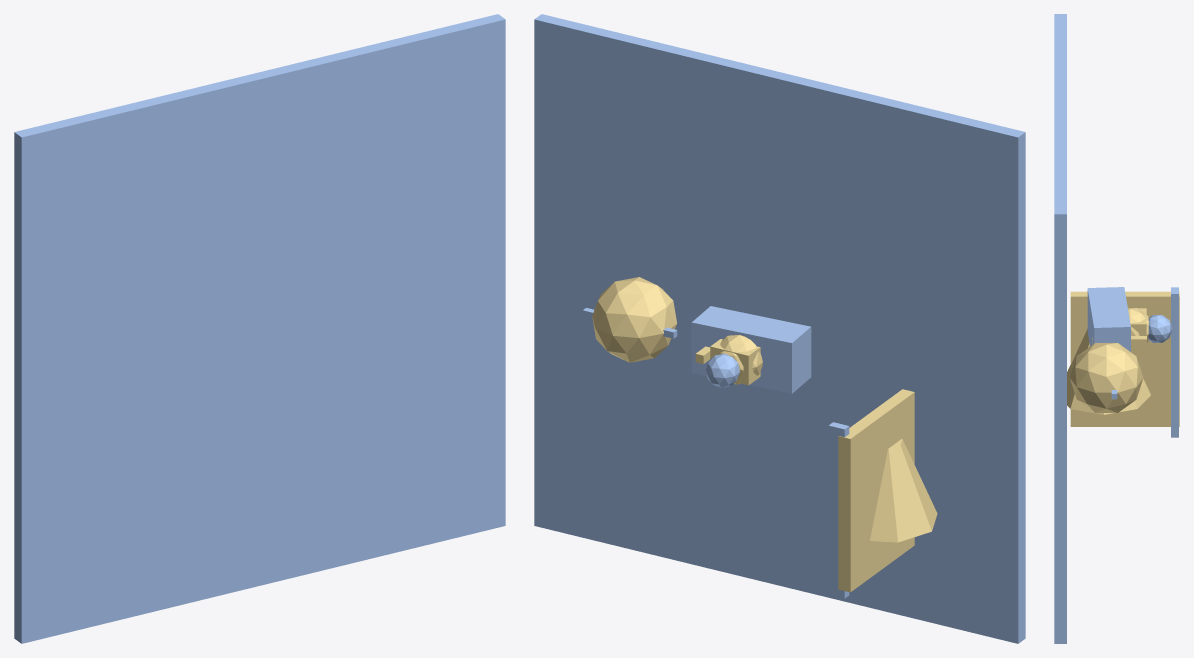
File: neon-pinball-kit.glb
3 renders of one model, left to right at view 1: azimuth 30°, elevation 25°; view 2: azimuth 150°, elevation 25°; view 3: azimuth 270°, elevation 25°, orthographic. The views are drawn at different scales.
Visible parts, largest first — view 1: ENVIRONMENT_GROUND; view 2: ENVIRONMENT_GROUND, PROFILE_ENVIRONMENT_DETAIL, PLAYER_BODY, OBSTACLE, ENVIRONMENT_LANDMARK, PROFILE_ENVIRONMENT_TRIM, PROFILE_PLAYER_HEAD, PLAYER_CORE, PROFILE_PLAYER_DETAIL; view 3: ENVIRONMENT_GROUND, PROFILE_ENVIRONMENT_DETAIL, OBSTACLE, PLAYER_BODY, PROFILE_ENVIRONMENT_TRIM, ENVIRONMENT_LANDMARK, PROFILE_PLAYER_HEAD, PLAYER_CORE, PROFILE_PLAYER_DETAIL.
Boxes of the visible parts, <box> form: ENVIRONMENT_GROUND: <box>14,14,505,643</box>; ENVIRONMENT_GROUND: <box>534,14,1025,643</box>; PROFILE_ENVIRONMENT_DETAIL: <box>838,389,914,592</box>; PLAYER_BODY: <box>691,306,811,393</box>; OBSTACLE: <box>592,277,676,362</box>; ENVIRONMENT_LANDMARK: <box>870,439,937,542</box>; PROFILE_ENVIRONMENT_TRIM: <box>828,422,849,598</box>; PROFILE_PLAYER_HEAD: <box>705,353,739,387</box>; PLAYER_CORE: <box>719,335,762,384</box>; PROFILE_PLAYER_DETAIL: <box>710,339,760,385</box>; ENVIRONMENT_GROUND: <box>1054,14,1066,643</box>; PROFILE_ENVIRONMENT_DETAIL: <box>1070,291,1179,426</box>; OBSTACLE: <box>1070,343,1143,412</box>; PLAYER_BODY: <box>1087,287,1130,351</box>; PROFILE_ENVIRONMENT_TRIM: <box>1171,287,1178,437</box>; ENVIRONMENT_LANDMARK: <box>1067,329,1150,414</box>; PROFILE_PLAYER_HEAD: <box>1148,315,1172,342</box>; PLAYER_CORE: <box>1128,308,1149,349</box>; PROFILE_PLAYER_DETAIL: <box>1130,308,1146,349</box>.
Size of what is drawn, in the model's own units: 9 by 9 by 2.37.
